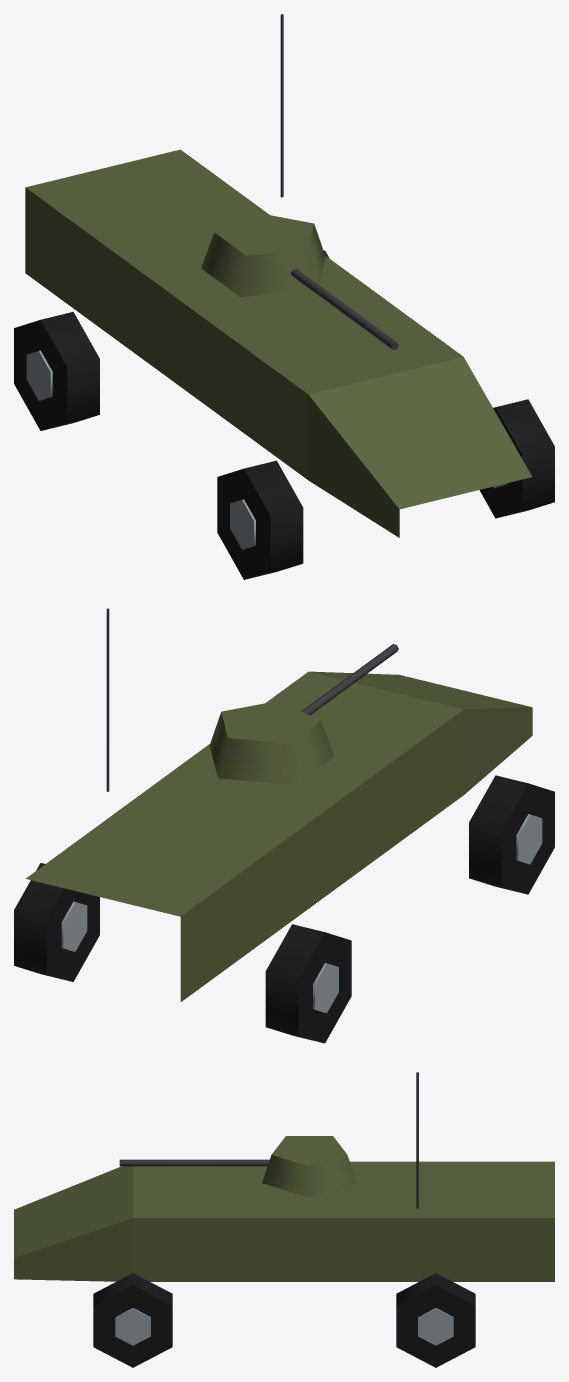
File: veh_ground_scout_car_a08_lod1.glb
The picture shows the model from 3 angles, top to bottom: view 1: azimuth 30°, elevation 25°; view 2: azimuth 150°, elevation 25°; view 3: azimuth 270°, elevation 25°; orthographic projection. The views are drawn at different scales.
Parts seen in each view (by area): view 1: body, turret, wheel_2, wheel_0, wheel_3; view 2: body, turret, wheel_0, wheel_2, wheel_1; view 3: body, wheel_1, wheel_3, turret.
Boxes of the visible parts, box(x1,y1,x2,y2) form: body: box(25, 14, 532, 537); turret: box(201, 212, 398, 350); wheel_2: box(217, 460, 303, 579); wheel_0: box(14, 311, 99, 430); wheel_3: box(479, 399, 554, 518); body: box(25, 608, 532, 1001); turret: box(209, 644, 398, 785); wheel_0: box(265, 924, 351, 1043); wheel_2: box(469, 775, 554, 894); wheel_1: box(14, 863, 99, 981); body: box(14, 1072, 554, 1281); wheel_1: box(396, 1273, 475, 1367); wheel_3: box(93, 1273, 172, 1367); turret: box(119, 1136, 356, 1197).
Size of the model in its own units: 2.98 by 3.65 by 6.5.
